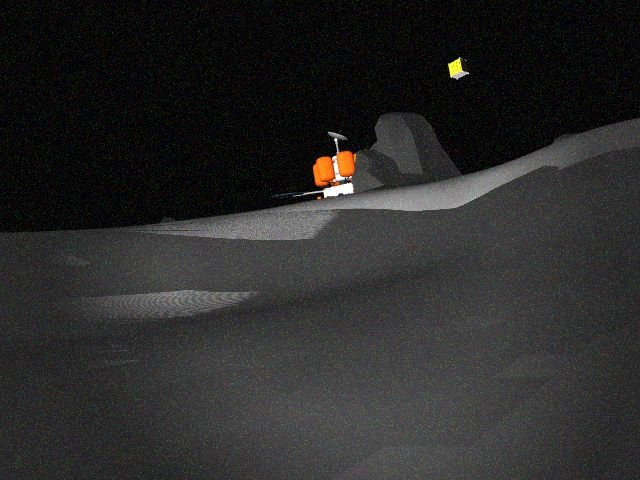cubesat: (444, 52, 478, 81)
